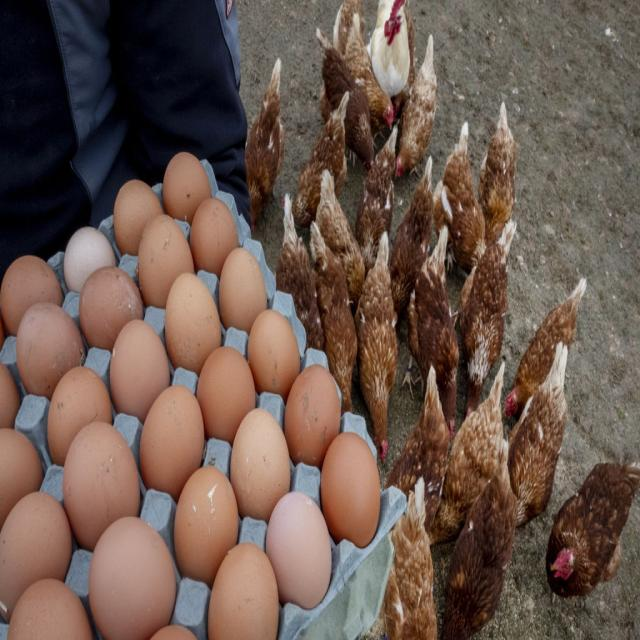huevos: (139, 388, 204, 496)
